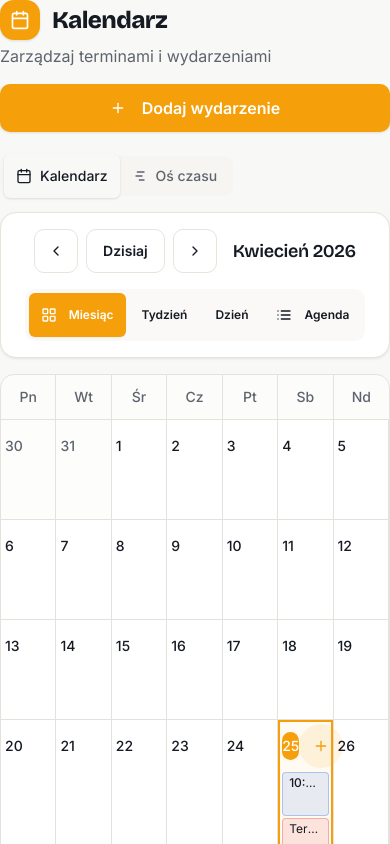
Test: Calendar › edit existing event › should open edit dialog with pre-filled title when event is clicked
Click the button "10:00Spotkanie z klientem": (305, 794) [282,772,328,816]
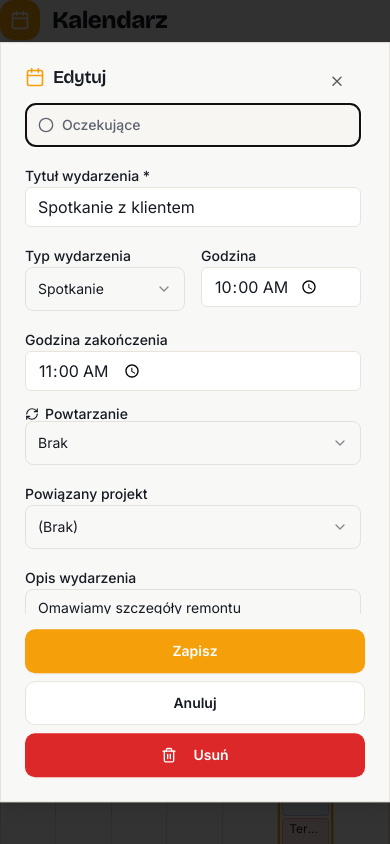
Expected: the field with placeholder "Tytuł wydarzenia" holds "Spotkanie z klientem", [25,187,361,227]
